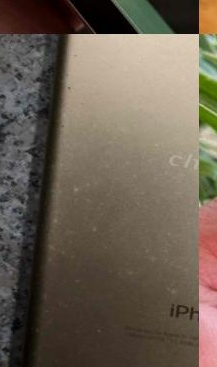scratch: (12, 147, 90, 316), (139, 236, 198, 305)
